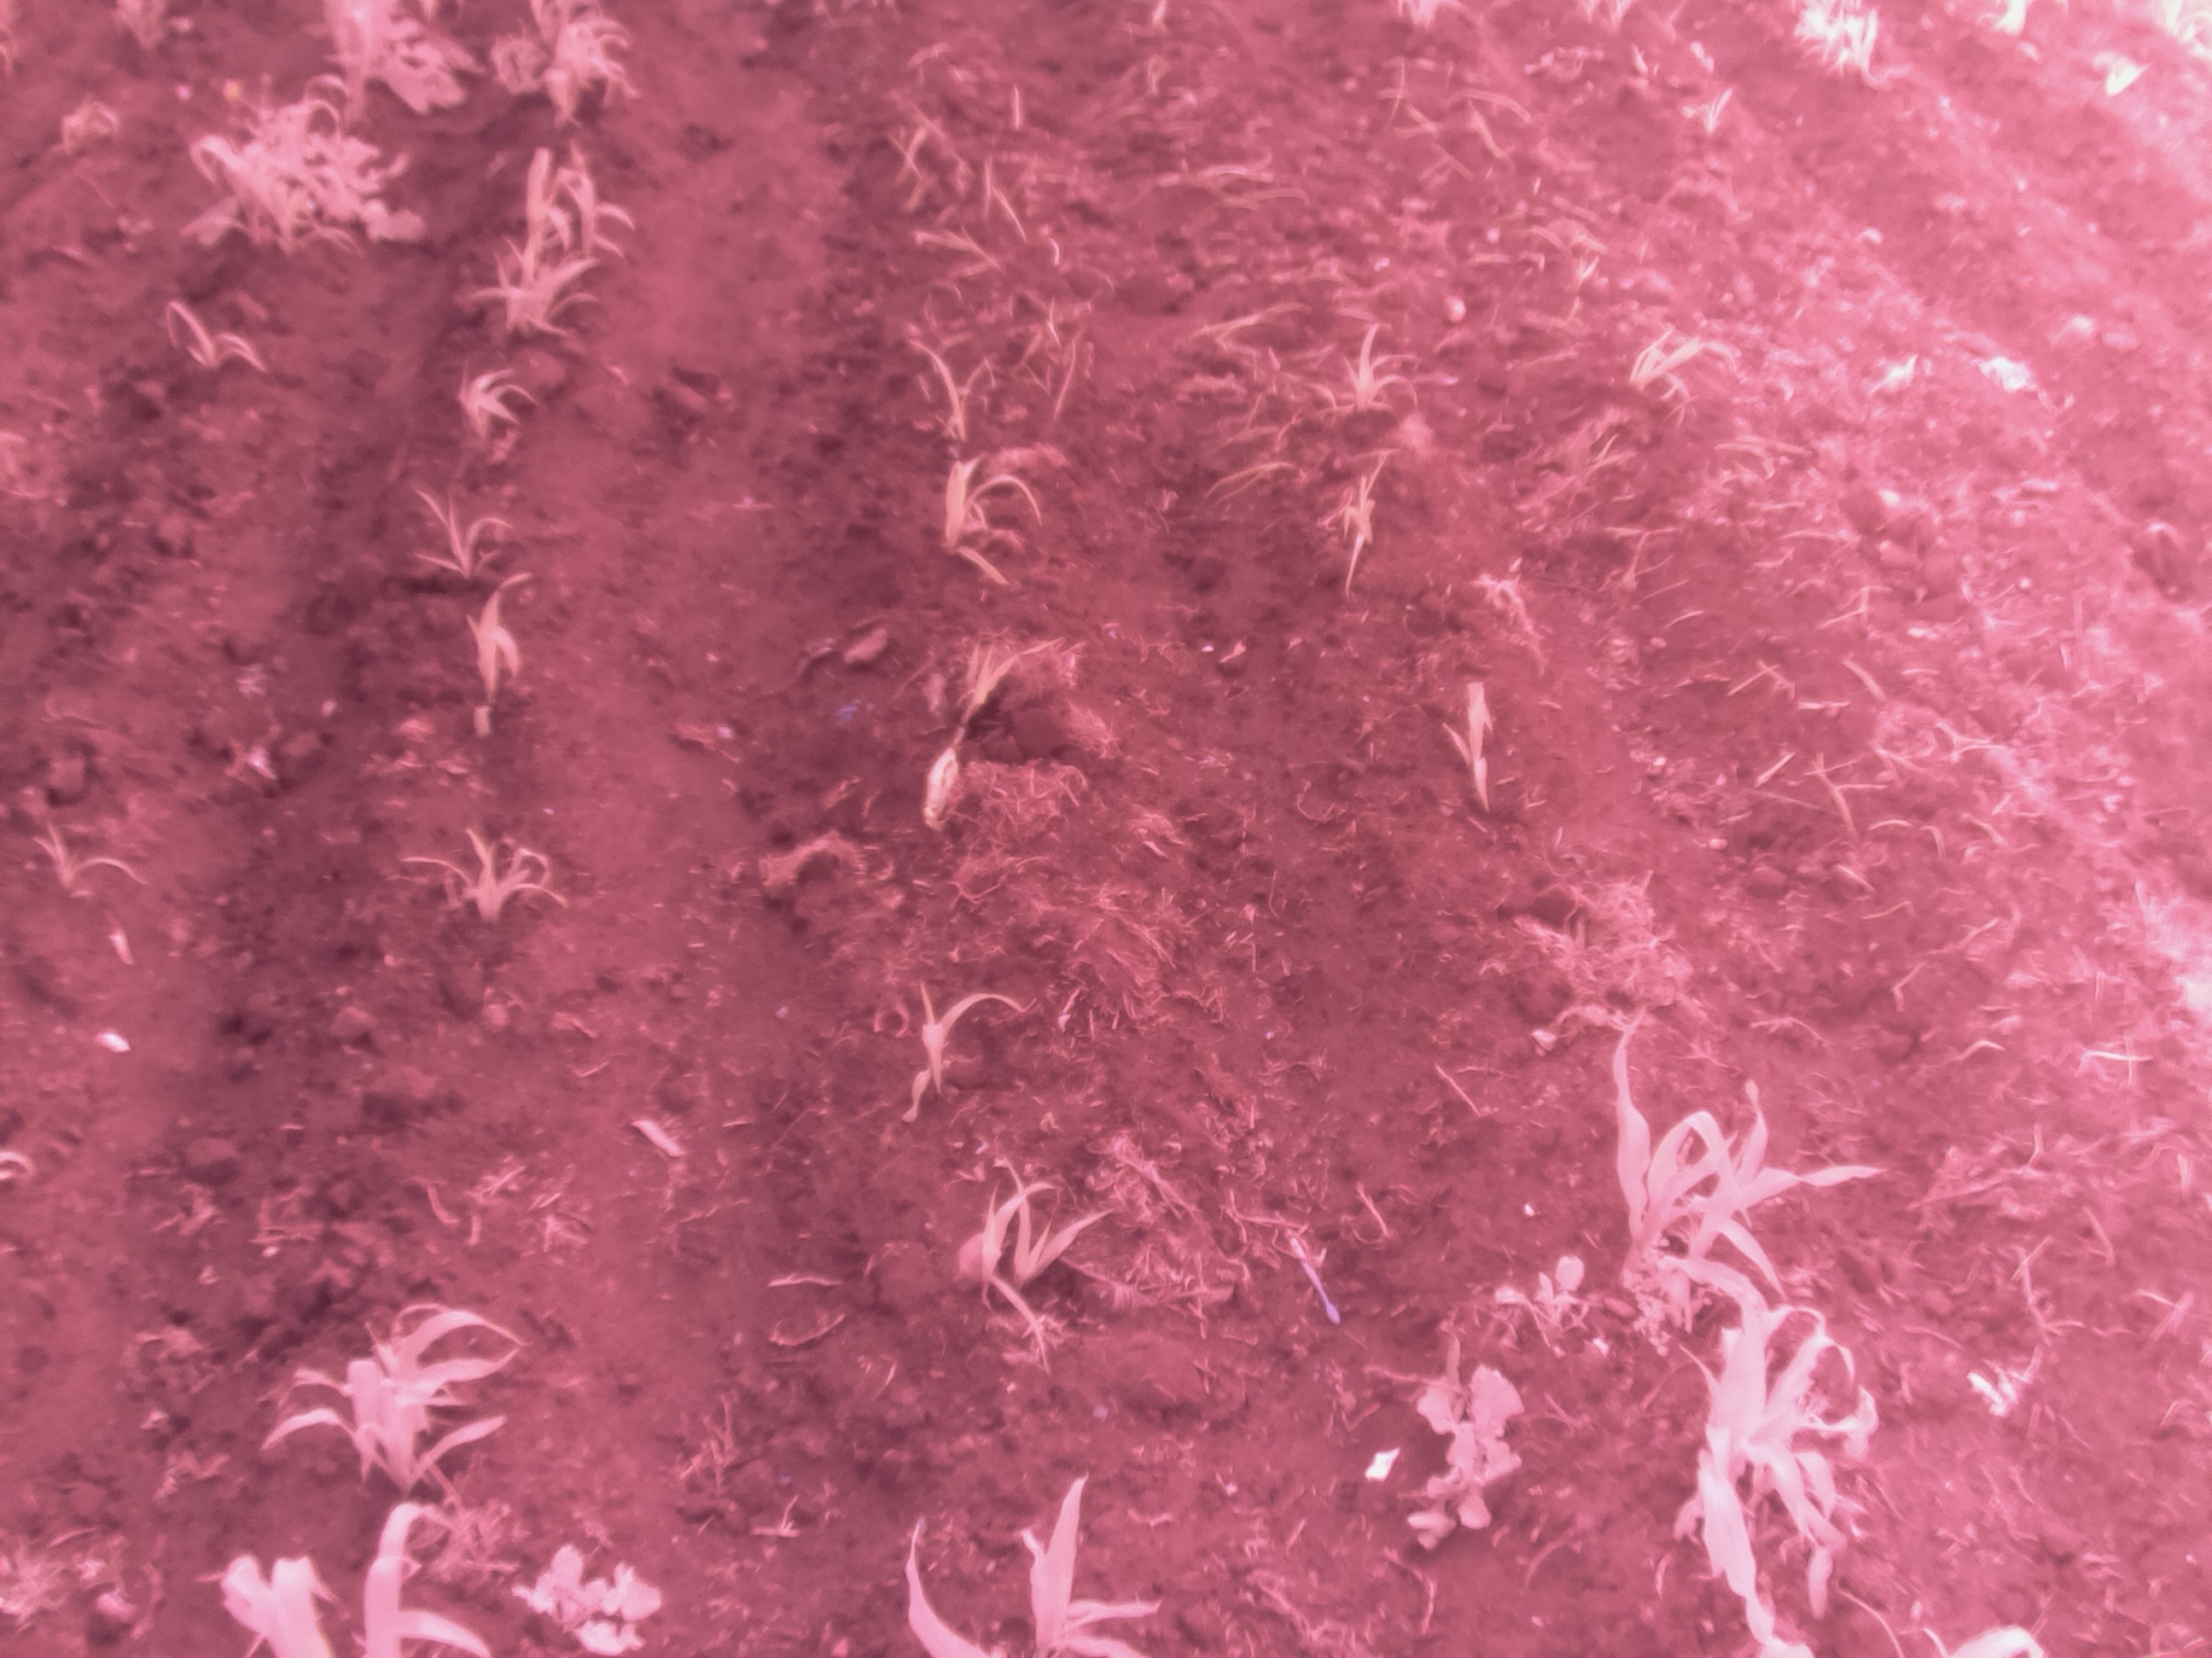Maiz: (1689, 1282, 1897, 1644), (1695, 1071, 1881, 1376), (895, 1472, 1186, 1658), (265, 1313, 535, 1498), (211, 1505, 514, 1658), (1592, 1035, 1726, 1357), (881, 961, 1022, 1120), (988, 1136, 1108, 1306), (914, 456, 1059, 589), (408, 826, 585, 925), (314, 0, 427, 153), (535, 16, 641, 158), (451, 570, 552, 719), (496, 158, 575, 347), (145, 287, 279, 397), (1313, 320, 1439, 435), (956, 1172, 1038, 1345), (1430, 667, 1515, 824), (23, 820, 150, 920), (411, 477, 514, 599), (549, 131, 637, 268), (183, 98, 270, 233), (423, 355, 542, 451), (1320, 449, 1397, 596), (906, 334, 988, 456), (907, 728, 984, 836), (1622, 333, 1728, 401)
